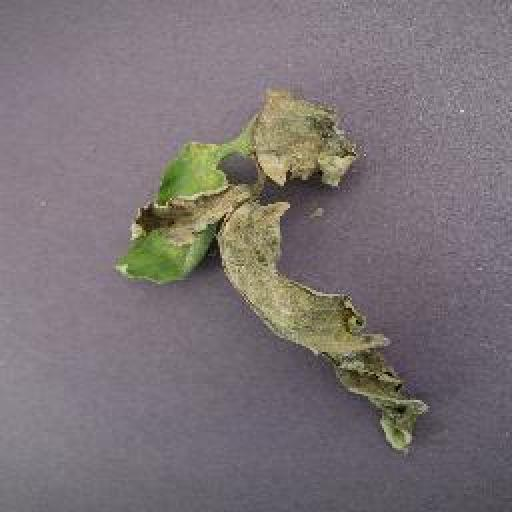disease_tomato: (117, 89, 432, 451)
